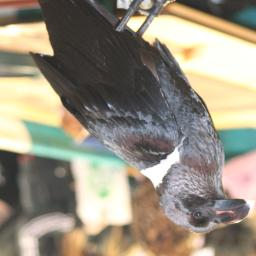Crow: (24, 0, 255, 235)
